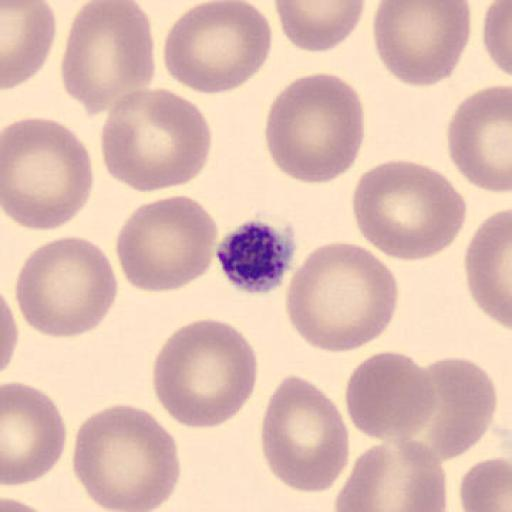Platelet: (215, 218, 298, 295)
RBC: (284, 240, 400, 354), (98, 85, 213, 194), (350, 157, 468, 263), (150, 317, 258, 431), (71, 402, 182, 512), (264, 72, 366, 186), (60, 0, 155, 118), (260, 372, 350, 495), (14, 234, 118, 340), (161, 0, 274, 96), (2, 116, 95, 232), (399, 357, 498, 461), (114, 195, 219, 293), (372, 1, 473, 88), (334, 436, 448, 512), (345, 349, 436, 442), (446, 82, 512, 193), (2, 380, 68, 487), (463, 204, 512, 331), (1, 0, 57, 92), (273, 0, 367, 54), (458, 455, 512, 512), (482, 0, 512, 79), (1, 290, 20, 373), (1, 495, 57, 512)
